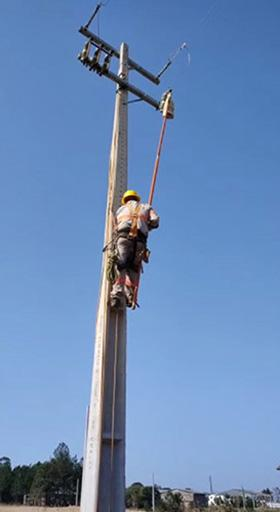Vara_Manobra: (132, 104, 168, 311)
